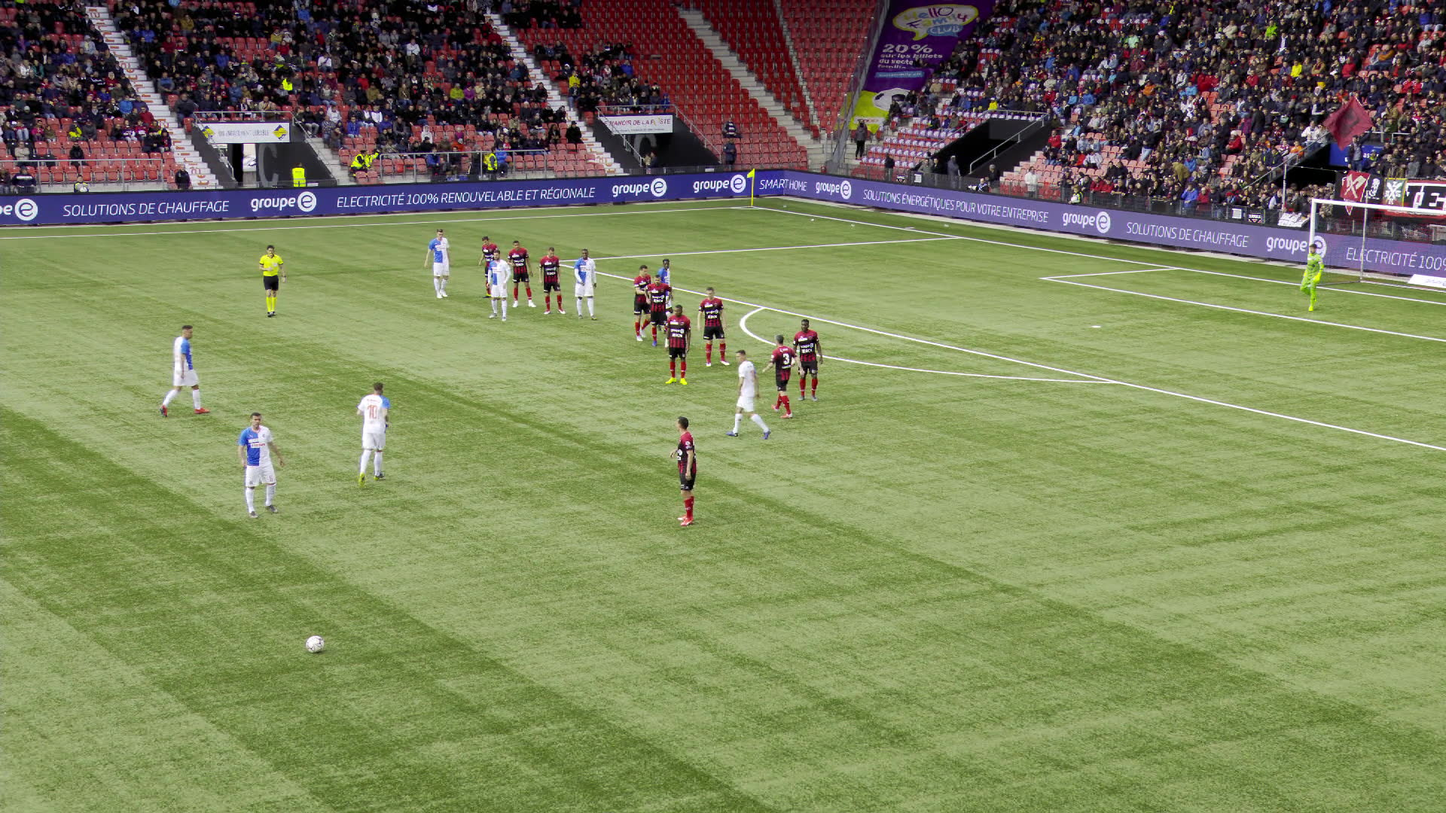ball: (307, 636, 323, 652)
player: (236, 411, 282, 518), (162, 322, 207, 415), (352, 383, 390, 486), (728, 349, 767, 438), (764, 333, 804, 419), (669, 416, 698, 525), (792, 318, 823, 401), (697, 287, 727, 367), (664, 303, 691, 386), (539, 246, 568, 315), (632, 264, 657, 341), (648, 273, 674, 346), (485, 249, 511, 322), (508, 239, 535, 307), (425, 228, 451, 298), (572, 247, 596, 319), (651, 258, 674, 332), (1300, 243, 1323, 311), (480, 236, 502, 299)
referee: (258, 245, 283, 316)
